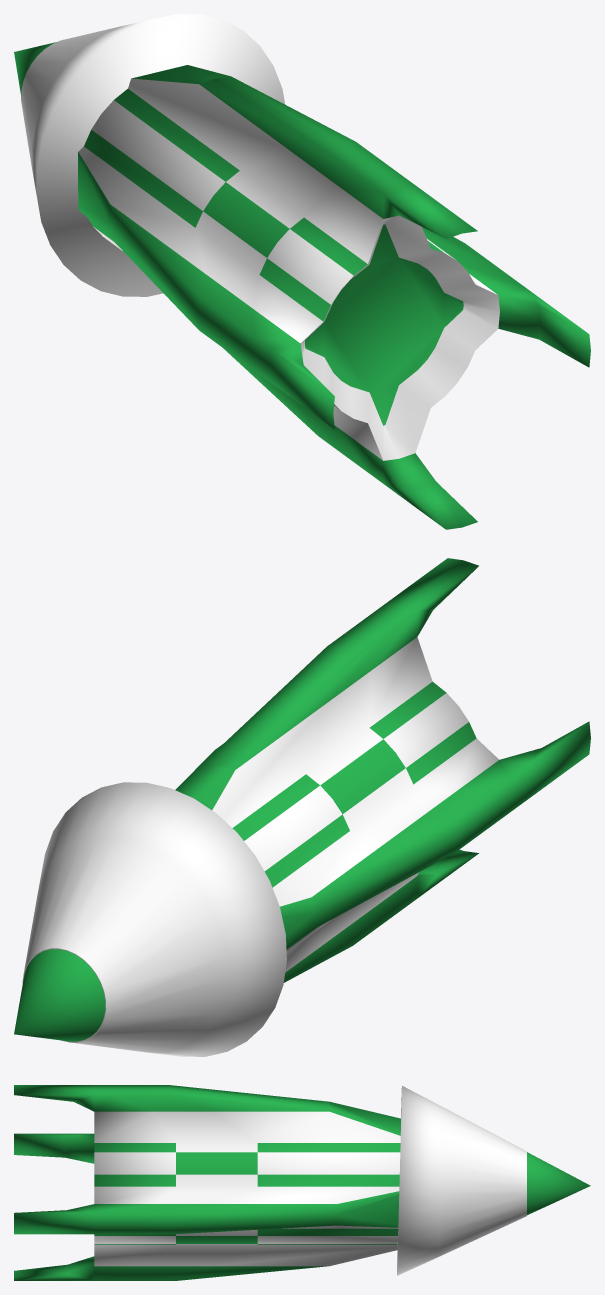
The model's file is MISSILEGREEN.glb.
The picture shows the model from 3 angles, top to bottom: view 1: azimuth 30°, elevation 25°; view 2: azimuth 150°, elevation 25°; view 3: azimuth 270°, elevation 25°; orthographic projection. The views are drawn at different scales.
Parts seen in each view (by area): view 1: Cylinder; view 2: Cylinder; view 3: Cylinder.
Boxes of the visible parts, x1,y1,x2,y2 form: Cylinder: (14,14,590,529); Cylinder: (14,558,590,1056); Cylinder: (14,1085,590,1280).
Bounding box in the file's own units: 3.13 × 3.42 × 9.51.
5 materials, 5 textured.
